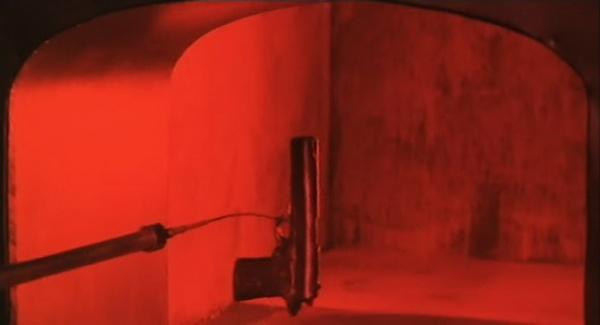Gun: (232, 135, 321, 315)
